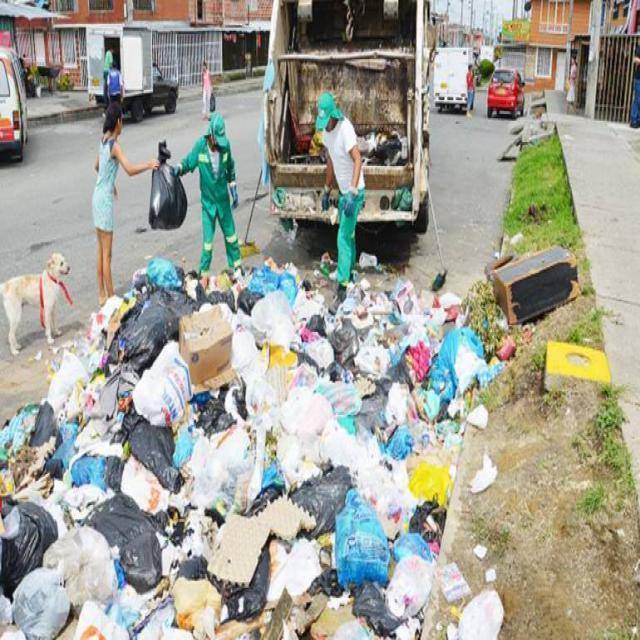Trashbag: (80, 487, 171, 597), (106, 287, 202, 381), (0, 498, 63, 592), (278, 464, 353, 537), (119, 412, 184, 495), (192, 274, 270, 320), (343, 581, 403, 634), (321, 318, 364, 376), (28, 401, 65, 454)
